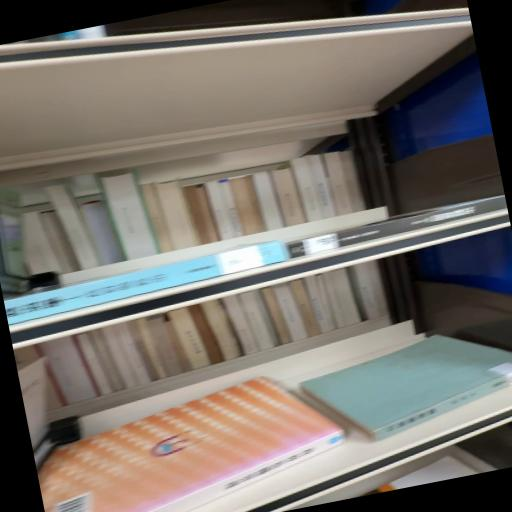flat: (38, 377, 345, 512), (4, 241, 291, 325), (300, 335, 512, 440), (287, 195, 507, 258)
